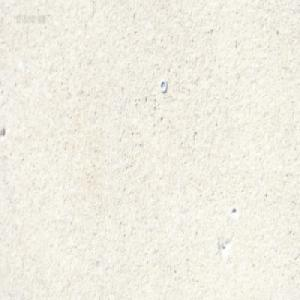Washer: (159, 79, 166, 93)
